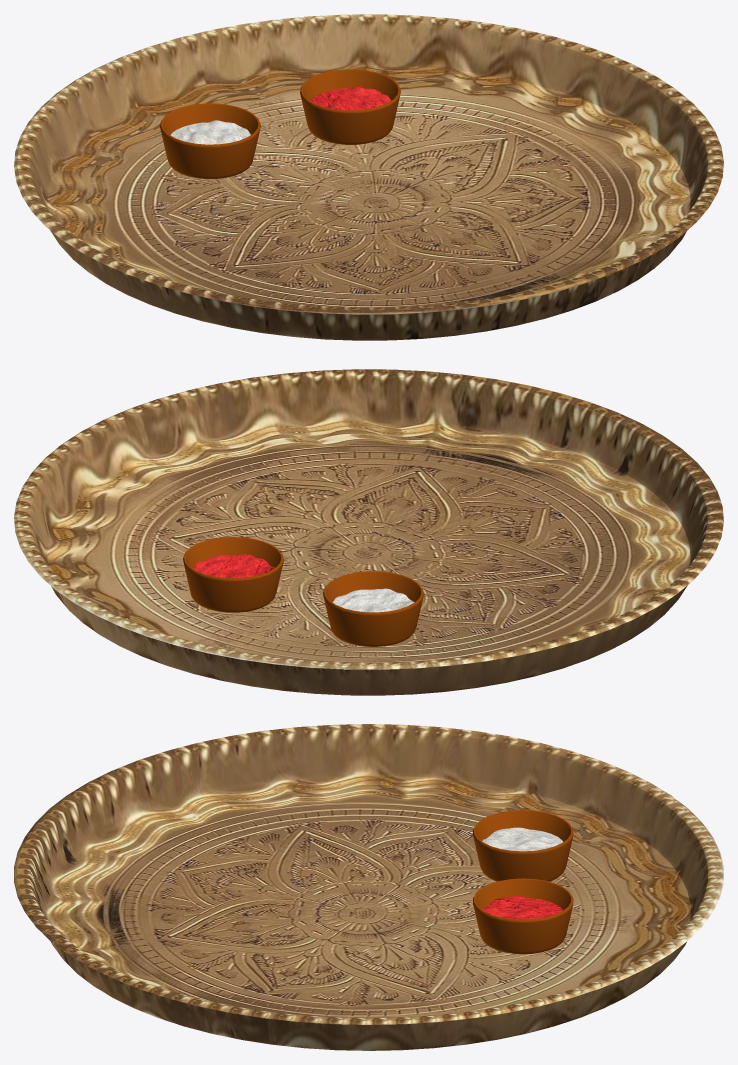
Rendered from Plate.fbx.
3 views of the same model, one above another, from view 1: azimuth 30°, elevation 25°; view 2: azimuth 150°, elevation 25°; view 3: azimuth 270°, elevation 25° (orthographic).
Parts seen in each view (by area): view 1: Object003, Cylinder002, Cylinder004, Plane002, roly; view 2: Object003, Cylinder002, Cylinder004, roly, Plane002; view 3: Object003, Cylinder002, Cylinder004, roly, Plane002.
Part boxes in pixels (<box>): Object003: <box>14,14,723,340</box>; Cylinder002: <box>300,69,400,144</box>; Cylinder004: <box>160,103,260,179</box>; Plane002: <box>170,120,250,144</box>; roly: <box>310,87,390,110</box>; Object003: <box>14,369,723,695</box>; Cylinder002: <box>183,537,283,612</box>; Cylinder004: <box>323,571,423,646</box>; roly: <box>192,554,274,578</box>; Plane002: <box>332,588,414,612</box>; Object003: <box>14,724,723,1050</box>; Cylinder002: <box>473,878,573,954</box>; Cylinder004: <box>473,810,573,881</box>; roly: <box>482,896,563,919</box>; Plane002: <box>482,827,562,851</box>.
Bounding box in the file's own units: 38.87 × 2.67 × 38.82.
4 materials, 3 textured.
